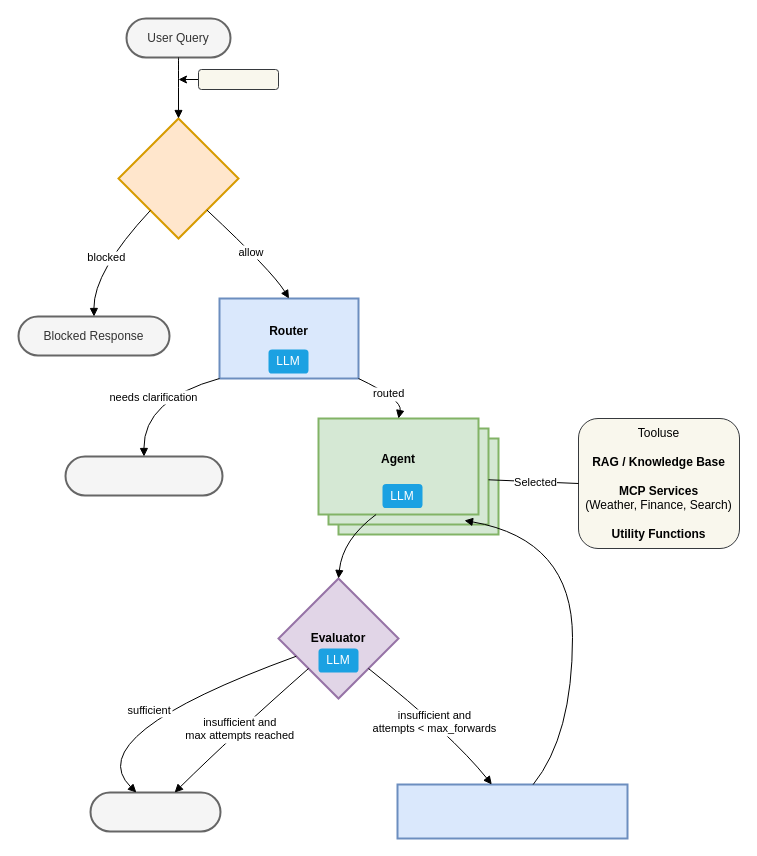
Image size: 757x856. Some labels were removed from this diagram. The centre of each missing label's shape, as x and y in pixels:
"Ask User to Clarify" belongs at [143,475].
"Final Response" belongs at [155,811].
"Forward to next agent" belongs at [512,811].
"Moderator" belongs at [178,178].
"Uesr Context" belongs at [238,79].
